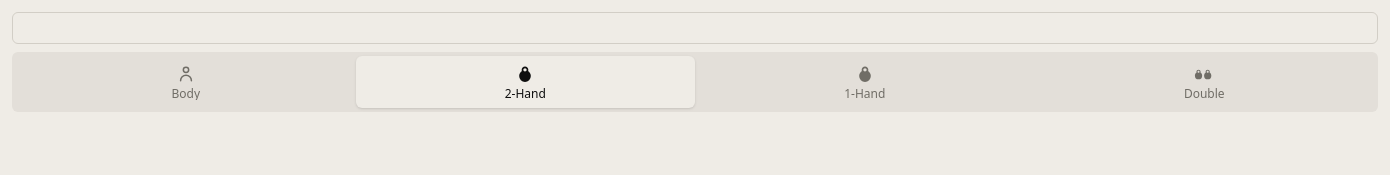
Test case: MovementAutocomplete › closes dropdown when focus leaves the picker
Step 1. Type "Swing" into the field named "Movement Input" → (695, 28), box top-left (12, 12), bottom-right (1378, 44)
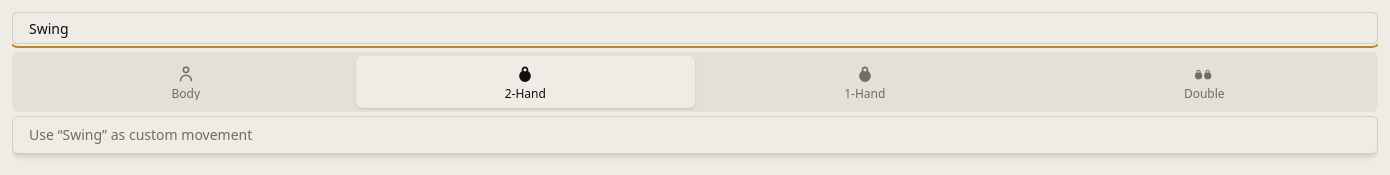
Expected: the list is shown, top-left (12, 116), bottom-right (1378, 154)
Step 2. Press Tab
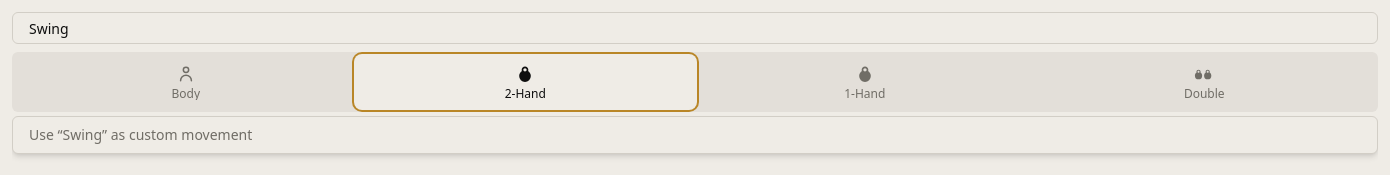
Step 3. Press Tab
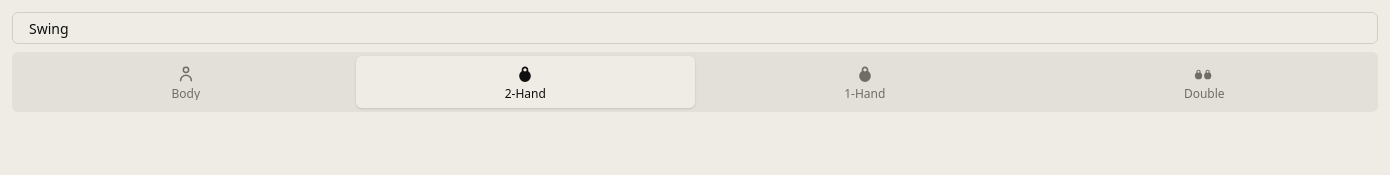
Expected: the list is gone
